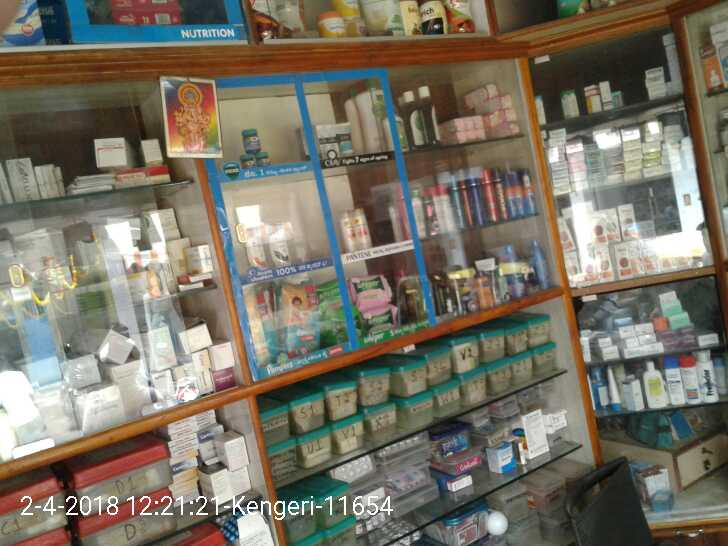vicks: (237, 127, 272, 165)
